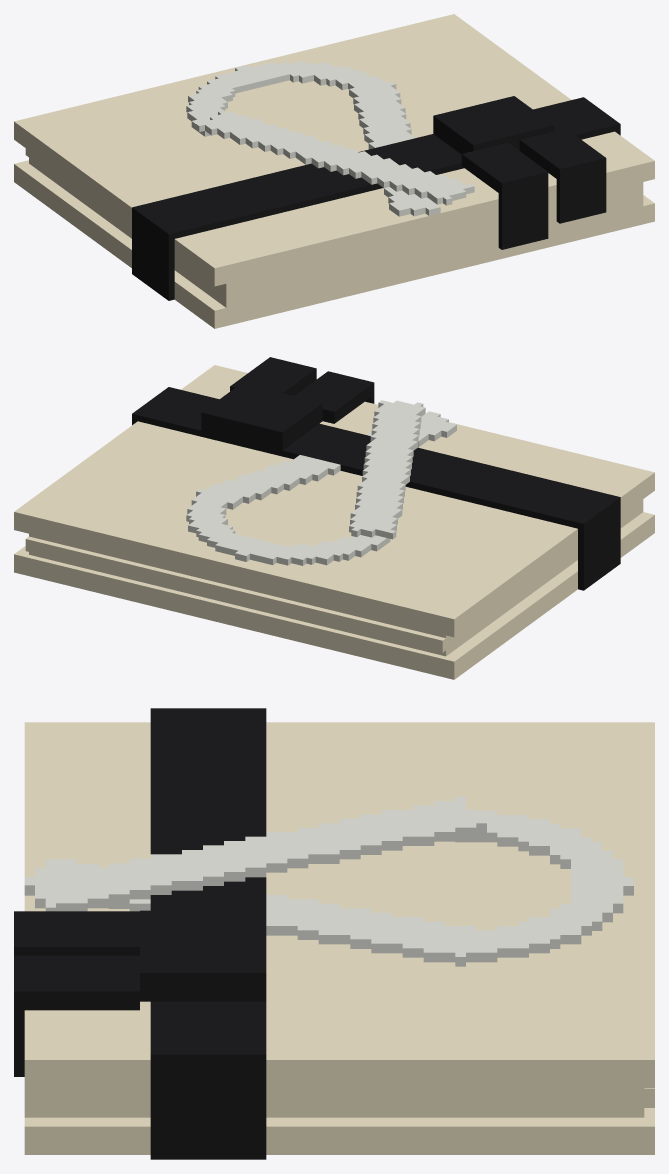
The model's file is karate_gi.glb.
The picture shows the model from 3 angles, top to bottom: view 1: azimuth 30°, elevation 25°; view 2: azimuth 150°, elevation 25°; view 3: azimuth 270°, elevation 25°; orthographic projection. The views are drawn at different scales.
Parts seen in each view (by area): view 1: karate_gi:compound; view 2: karate_gi:compound; view 3: karate_gi:compound.
Part boxes in pixels (x1,y1,x2,y2): karate_gi:compound: (14,14,654,328); karate_gi:compound: (14,357,654,679); karate_gi:compound: (14,708,654,1159).
Bounding box in the file's own units: 0.312 × 0.056 × 0.244.
